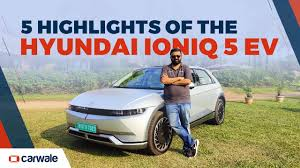Honda Ioniq: (60, 65, 161, 158), (195, 61, 239, 133)
